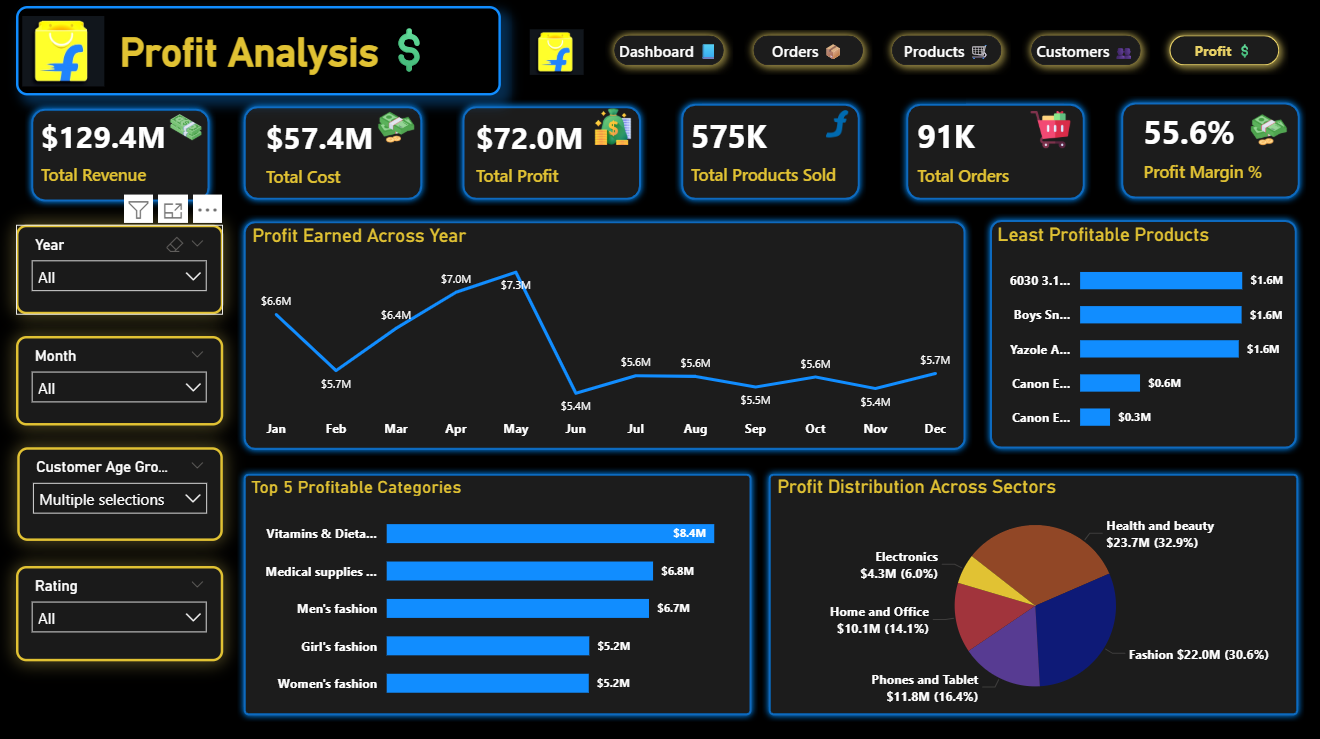

This screenshot's page, from the dashboard's own definition file:
{"tool":"powerbi","page":{"name":"Profit 💲","canvas":[1280,720],"ordinal":5},"visuals":[{"type":"shape","box":[233.2,455.1,502.6,245.7],"z":0},{"type":"shape","box":[740,455.1,523.6,245.7],"z":1000},{"type":"shape","box":[953.6,209.4,308.6,233.2],"z":2000},{"type":"shape","box":[233.2,210.8,709.3,233.2],"z":3000},{"type":"shape","box":[28.1,102.3,184.6,102],"z":4000},{"type":"shape","box":[1079.2,96.8,184.8,105.2],"z":5000},{"type":"shape","box":[654.8,98.1,184.8,105.2],"z":6000},{"type":"shape","box":[872.6,98.1,184.8,105.2],"z":7000},{"type":"shape","box":[444.3,100.6,184.8,102.8],"z":8000},{"type":"shape","box":[232.6,100.6,184.8,102.8],"z":9000},{"type":"cardVisual","fields":{"Data":["_Measures.Total Revenue"]},"box":[19.4,93.5,184.6,105.7],"z":10000},{"type":"cardVisual","fields":{"Data":["_Measures.Total Quantity"]},"box":[641.3,96.9,198.2,104],"z":11000},{"type":"cardVisual","fields":{"Data":["_Measures.Profit Margin %"]},"box":[1078,91.9,184.8,106.5],"z":12000},{"type":"cardVisual","fields":{"Data":["_Measures.Total Orders"]},"box":[860.4,98.1,184.8,101.6],"z":13000},{"type":"cardVisual","fields":{"Data":["_Measures.Total Profit"]},"box":[434.5,99.3,177.4,101.6],"z":14000},{"type":"cardVisual","fields":{"Data":["_Measures.Total Cost"]},"box":[232.1,97.4,184.6,105.7],"z":17000},{"type":"clusteredBarChart","title":"Top 5 Profitable Categories","fields":{"Category":["Data.SubCategory"],"Y":["_Measures.Total Profit"]},"box":[241.5,463.5,490.1,230.4],"z":18000},{"type":"pieChart","title":"Profit Distribution Across Sectors","fields":{"Y":["_Measures.Total Profit"],"Category":["Data.Product Category"]},"box":[749.7,463.5,508.2,230],"z":19000},{"type":"clusteredBarChart","title":"Least Profitable Products ","fields":{"Y":["_Measures.Total Profit"],"Category":["Data.Product"]},"box":[962,219.2,290,215],"z":20000},{"type":"lineChart","title":"Profit Earned Across Year","fields":{"Y":["_Measures.Total Profit"],"Category":["Data.Short Month"]},"box":[242.9,220.6,692.5,215],"z":21000},{"type":"slicer","fields":{"Values":["Data.Year"]},"box":[19.5,220.6,199.7,86.6],"z":22000},{"type":"slicer","fields":{"Values":["Data.Month"]},"box":[19.5,328.1,199.7,86.6],"z":23000},{"type":"slicer","fields":{"Values":["Data.Age Group"]},"box":[20.9,435.6,198.3,90.8],"z":24000},{"type":"slicer","fields":{"Values":["Data.Rating"]},"box":[19.5,550.1,199.7,92.1],"z":25000},{"type":"pageNavigator","box":[587.8,29.3,661.8,47.5],"z":25001},{"type":"textbox","box":[19.5,9.8,467.7,86.6],"z":25002},{"type":"image","box":[25.1,16.8,79.6,72.6],"z":25003},{"type":"image","box":[515.2,23.7,51.7,60],"z":25004},{"type":"actionButton","box":[515.2,29.3,51.7,54.5],"z":25005}]}

Visuals, with their boxes in screenshot pixels (x1, y1, x2, y2), scaled from the page's 1280x720 canvas onto the 1320x739 screenshot:
shape: <region>240, 467, 759, 719</region>
shape: <region>763, 467, 1303, 719</region>
shape: <region>983, 215, 1302, 454</region>
shape: <region>240, 216, 972, 456</region>
shape: <region>29, 105, 219, 210</region>
shape: <region>1113, 99, 1304, 207</region>
shape: <region>675, 101, 866, 209</region>
shape: <region>900, 101, 1090, 209</region>
shape: <region>458, 103, 649, 209</region>
shape: <region>240, 103, 430, 209</region>
cardVisual - _Measures.Total Revenue: <region>20, 96, 210, 204</region>
cardVisual - _Measures.Total Quantity: <region>661, 99, 866, 206</region>
cardVisual - _Measures.Profit Margin %: <region>1112, 94, 1302, 204</region>
cardVisual - _Measures.Total Orders: <region>887, 101, 1078, 205</region>
cardVisual - _Measures.Total Profit: <region>448, 102, 631, 206</region>
cardVisual - _Measures.Total Cost: <region>239, 100, 430, 208</region>
"Top 5 Profitable Categories" clusteredBarChart: <region>249, 476, 754, 712</region>
"Profit Distribution Across Sectors" pieChart: <region>773, 476, 1297, 712</region>
"Least Profitable Products " clusteredBarChart: <region>992, 225, 1291, 446</region>
"Profit Earned Across Year" lineChart: <region>250, 226, 965, 447</region>
slicer - Data.Year: <region>20, 226, 226, 315</region>
slicer - Data.Month: <region>20, 337, 226, 426</region>
slicer - Data.Age Group: <region>22, 447, 226, 540</region>
slicer - Data.Rating: <region>20, 565, 226, 659</region>
pageNavigator: <region>606, 30, 1289, 79</region>
textbox: <region>20, 10, 502, 99</region>
image: <region>26, 17, 108, 92</region>
image: <region>531, 24, 585, 86</region>
actionButton: <region>531, 30, 585, 86</region>
